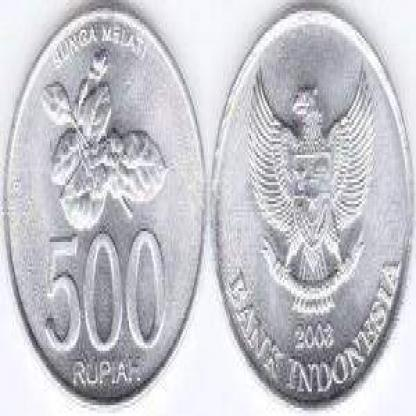coin_500_e2003: (202, 0, 416, 413), (0, 0, 209, 414)
